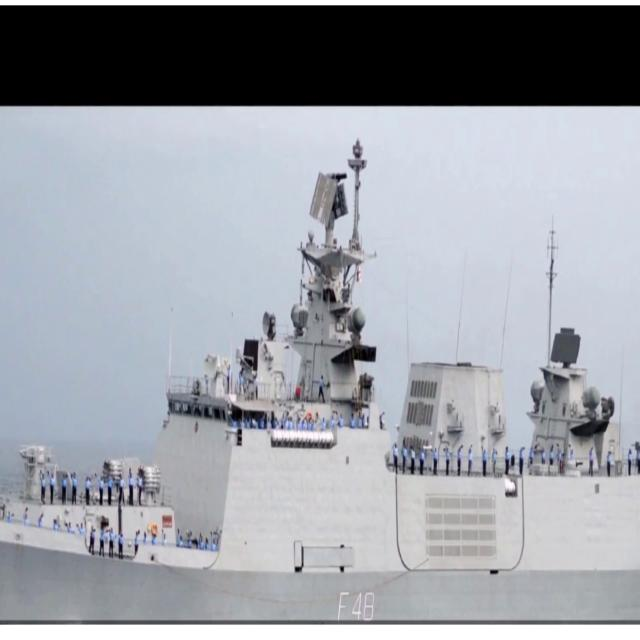OCR: (323, 587, 376, 624)
